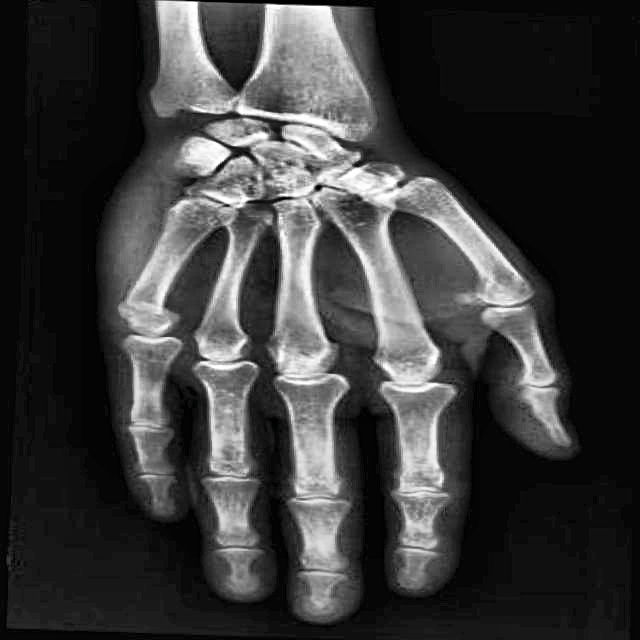Comminuted: (105, 283, 188, 340)
